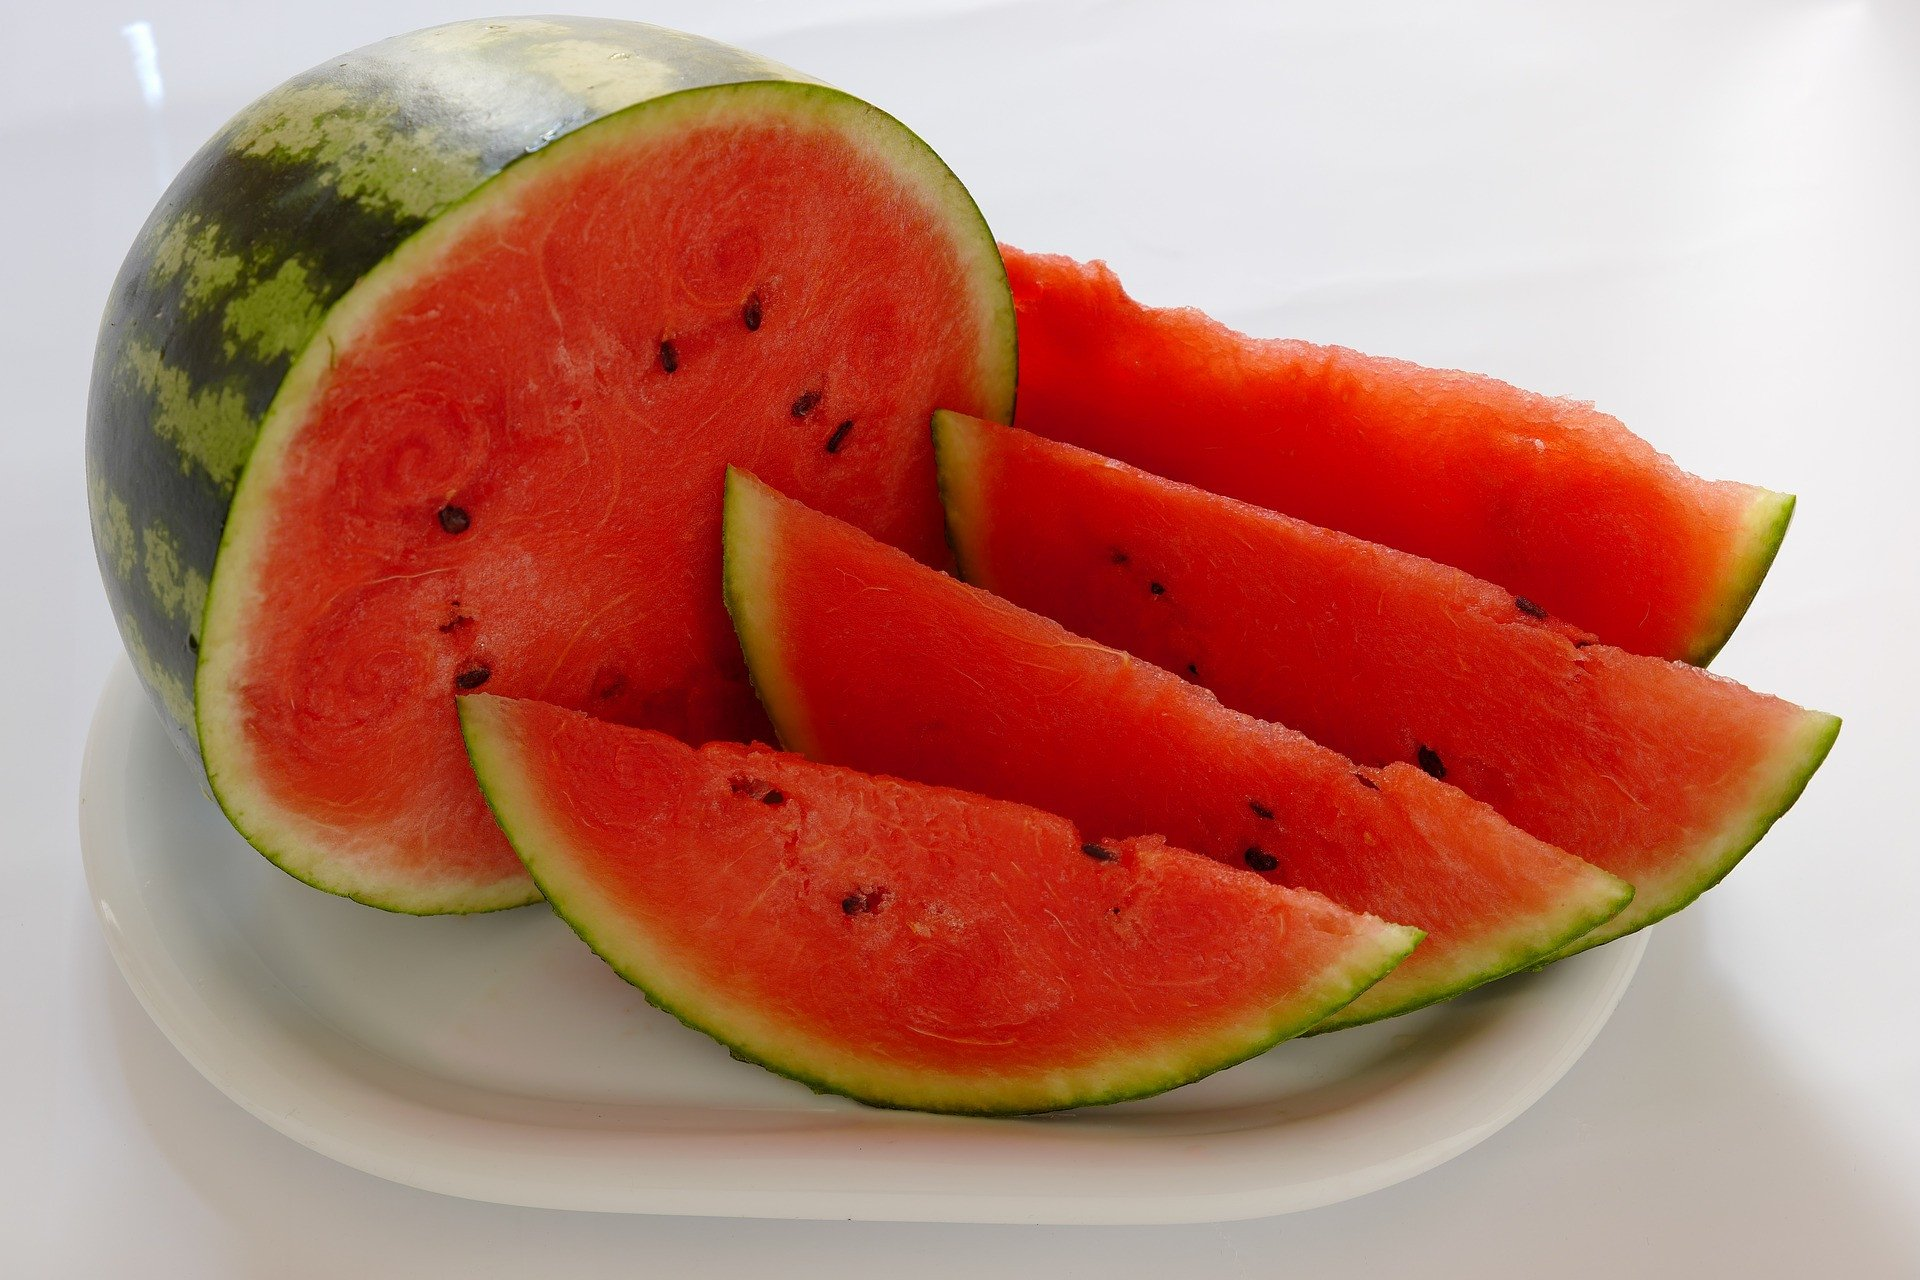Semangka: (686, 414, 1510, 1239), (936, 357, 1733, 1154), (971, 187, 1740, 956), (454, 547, 1119, 1210)
